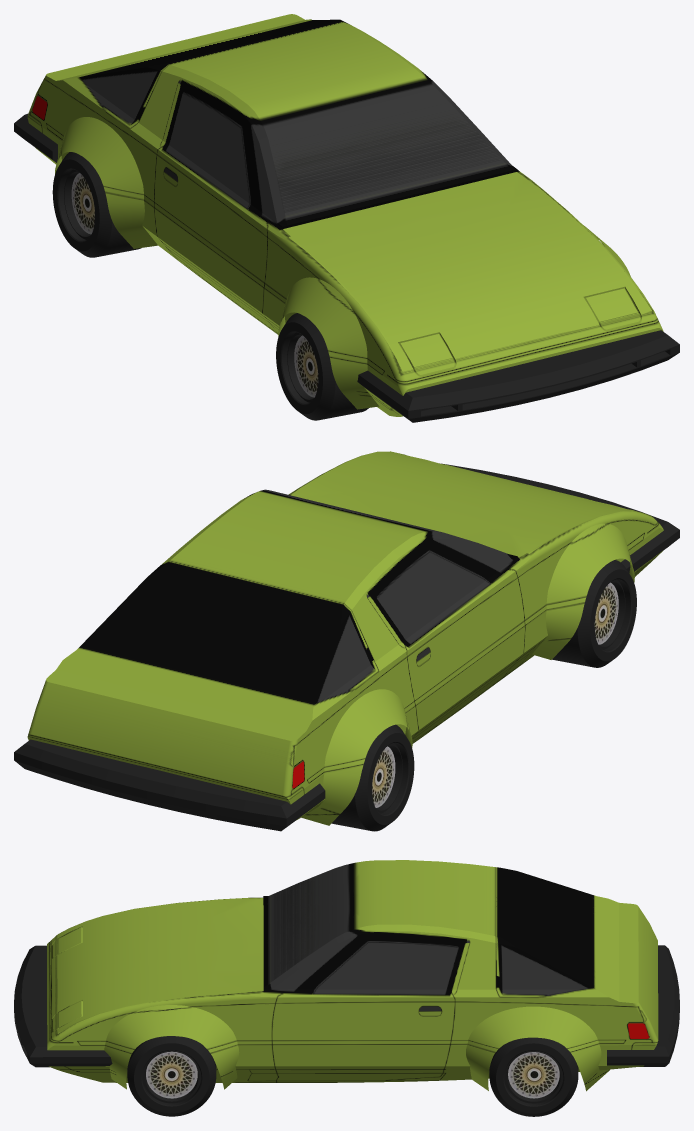
Rendered from RX7_Savanna.glb.
The picture shows the model from 3 angles, top to bottom: view 1: azimuth 30°, elevation 25°; view 2: azimuth 150°, elevation 25°; view 3: azimuth 270°, elevation 25°; orthographic projection. The views are drawn at different scales.
Parts seen in each view (by area): view 1: rx7Sava; view 2: rx7Sava; view 3: rx7Sava.
Part boxes in pixels (x1,y1,x2,y2): rx7Sava: [14, 14, 679, 422]; rx7Sava: [14, 451, 679, 831]; rx7Sava: [14, 860, 679, 1116].
Size of what is drawn, in the model's own units: 1.93 by 1.19 by 4.3.
Materials: 4 (2 with a texture image).
